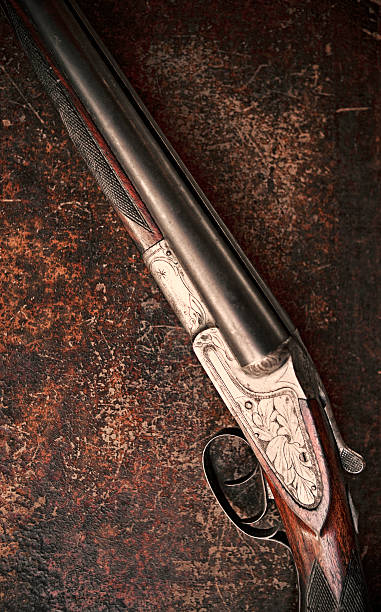shotgun: (131, 7, 371, 612)
